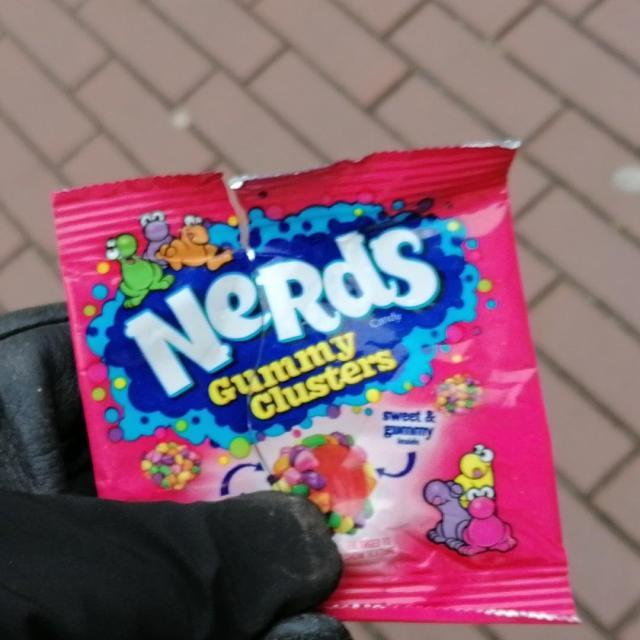Plastic: (46, 134, 588, 628)
